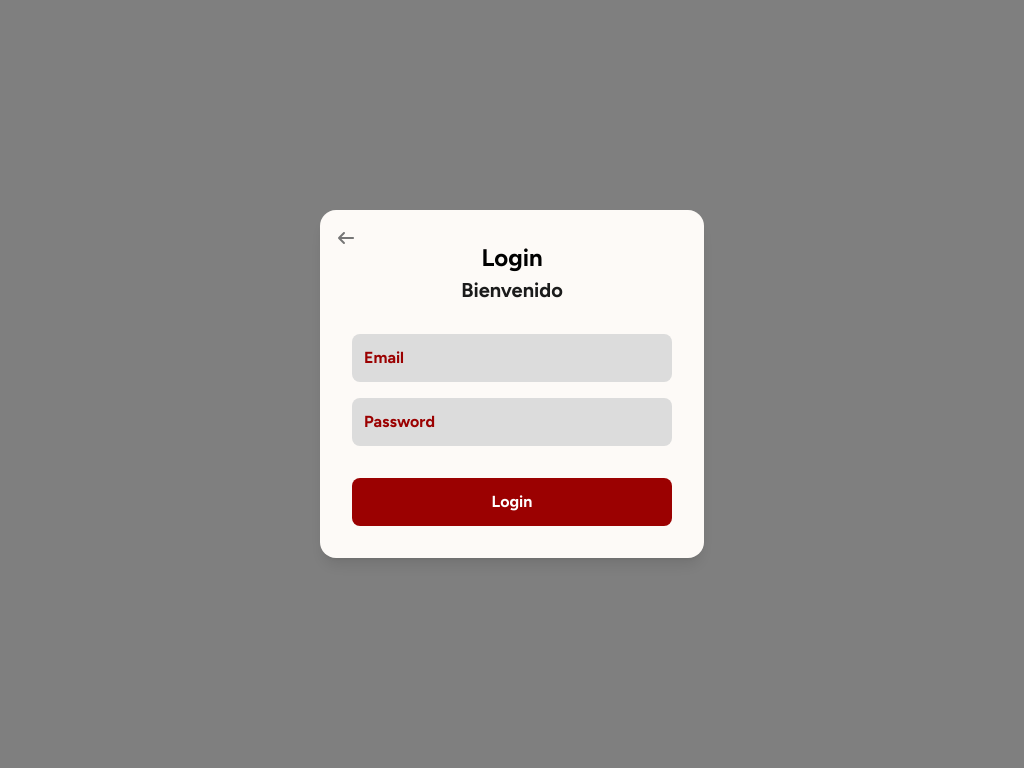
it: LoginModal component › muestra error si el login falla
Step 1. Type "user@test.com" into the field with placeholder "Email" → [512, 358], box [352,334,672,382]
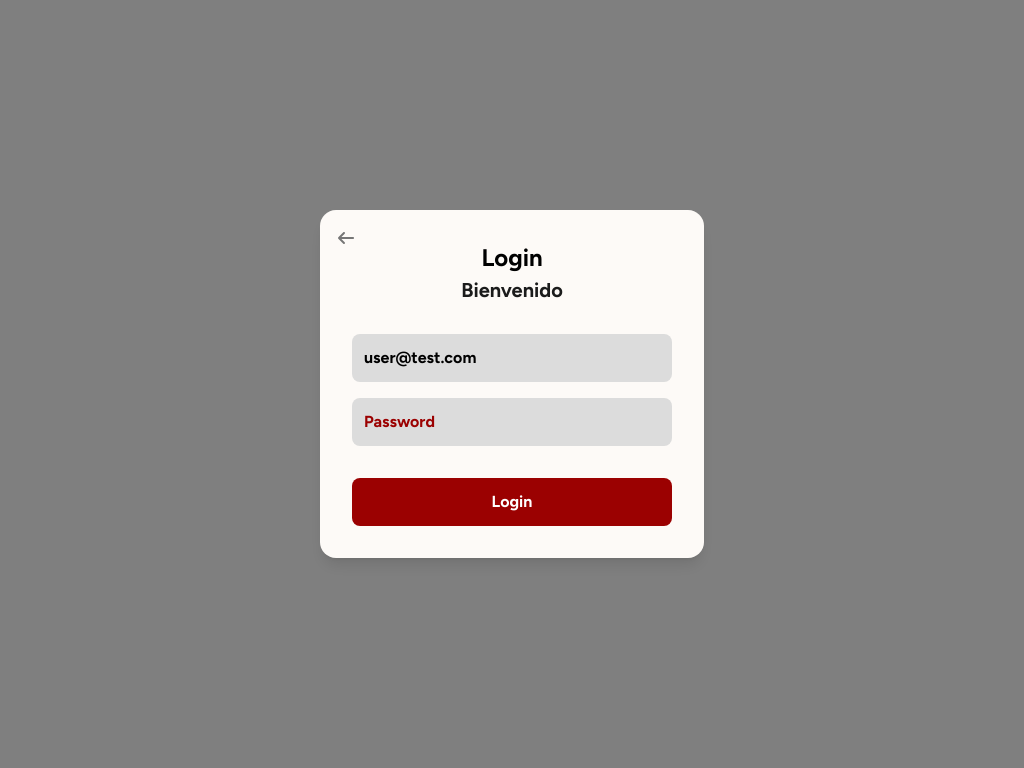
Step 2. Type "wrong" into the password field with placeholder "Password" → [512, 422], box [352,398,672,446]
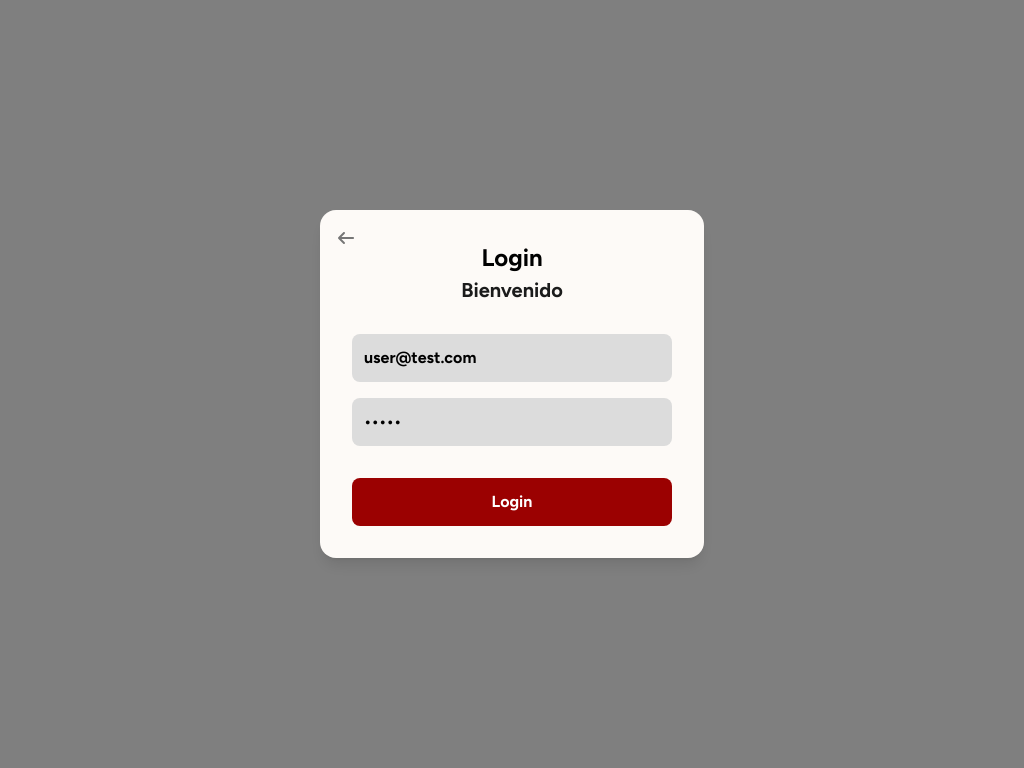
Step 3. Submit the form from the button "Login", box [352,478,672,526]
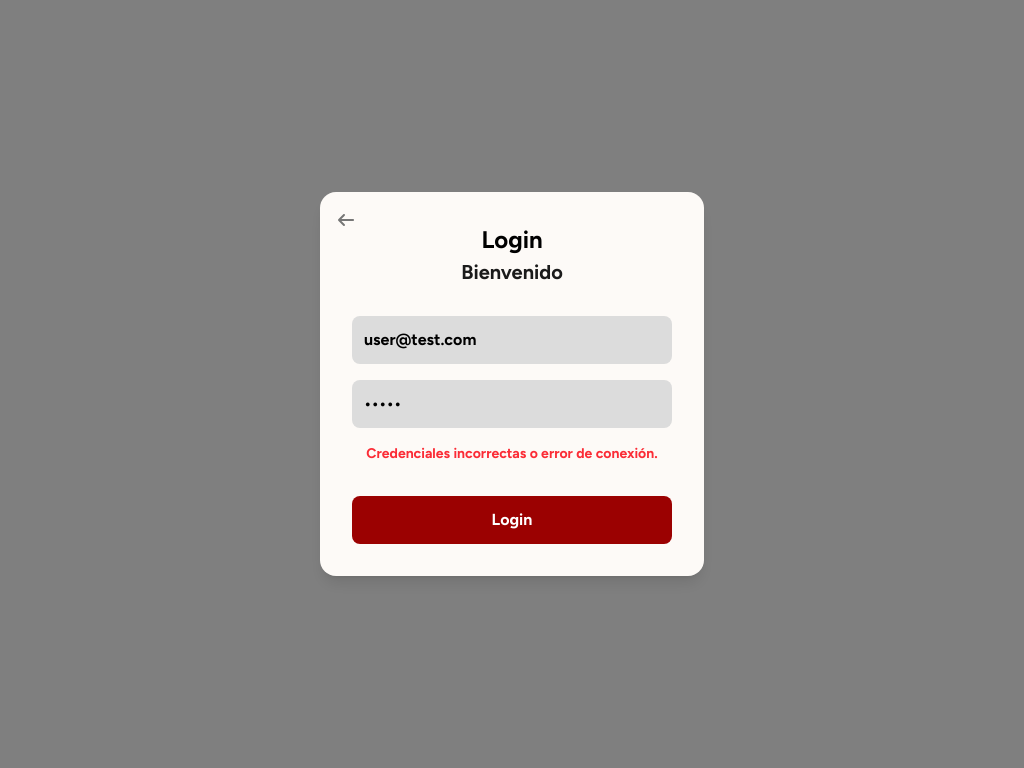
Expected: the text "Credenciales incorrectas o error de conexión." is shown, [352,444,672,464]
